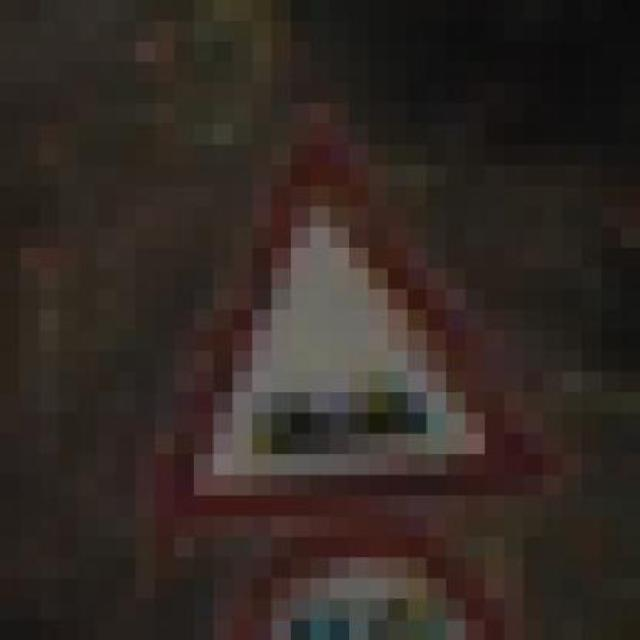Uneven Road: (135, 103, 543, 537)
